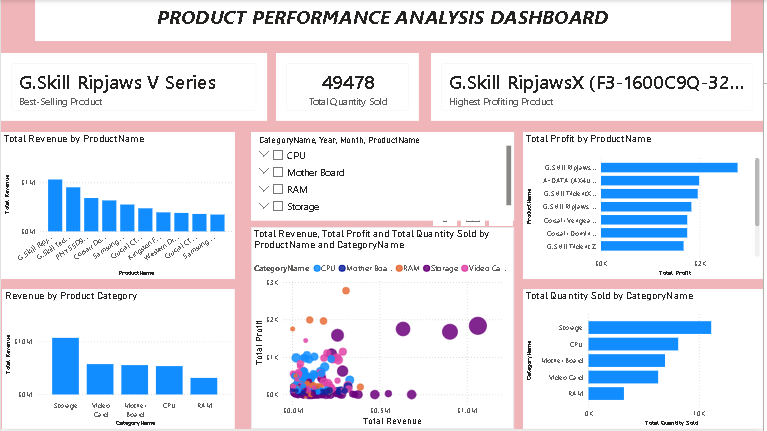

The page's visual inventory and layout, read from the dashboard file:
{"tool":"powerbi","page":{"name":"Product Performance Analysis Dashboard ","canvas":[1280,720],"ordinal":2},"visuals":[{"type":"cardVisual","fields":{"Data":["ML_Dataset_Cleaned.Best-Selling Product"]},"box":[0,89,446.8,114.2],"z":0},{"type":"cardVisual","fields":{"Data":["ML_Dataset_Cleaned.Highest Profiting Product"]},"box":[722.3,89,557.7,114.2],"z":1000},{"type":"cardVisual","fields":{"Data":["Sum(ML_Dataset_Cleaned.TotalItemQuantity)"]},"box":[461.9,89,240.2,114.2],"z":2000},{"type":"columnChart","fields":{"Y":["ML_Dataset_Cleaned.Total Revenue"],"Category":["ML_Dataset_Cleaned.ProductName"]},"box":[0,221.7,393.1,246.9],"z":3000},{"type":"clusteredBarChart","fields":{"Category":["ML_Dataset_Cleaned.ProductName"],"Y":["ML_Dataset_Cleaned.Total Profit"]},"box":[877.3,221.1,402.5,246.6],"z":4000},{"type":"scatterChart","fields":{"X":["ML_Dataset_Cleaned.Total Revenue"],"Y":["ML_Dataset_Cleaned.Total Profit"],"Category":["ML_Dataset_Cleaned.ProductName"],"Size":["ML_Dataset_Cleaned.Total Quantity Sold"],"Series":["ML_Dataset_Cleaned.CategoryName"]},"box":[419.5,381.3,442.2,338.7],"z":5000},{"type":"clusteredColumnChart","title":"Revenue by  Product Category","fields":{"Y":["ML_Dataset_Cleaned.Total Revenue"],"Category":["ML_Dataset_Cleaned.CategoryName"]},"box":[1.7,485.5,391.4,235.2],"z":6000},{"type":"barChart","fields":{"Y":["ML_Dataset_Cleaned.Total Quantity Sold"],"Category":["ML_Dataset_Cleaned.CategoryName"]},"box":[876.9,485.5,403.1,235.2],"z":7000},{"type":"textbox","box":[57.1,0,1169.1,68.9],"z":8000},{"type":"slicer","fields":{"Values":["ML_Dataset_Cleaned.CategoryName","ML_Dataset_Cleaned.OrderDate.Variation.Date Hierarchy.Year","ML_Dataset_Cleaned.OrderDate.Variation.Date Hierarchy.Month","ML_Dataset_Cleaned.ProductName"]},"box":[419.5,221.1,442.2,148.8],"z":9000}]}

Visuals, with their boxes in screenshot pixels (x1, y1, x2, y2), scaled from the page's 1280x720 canvas onto the 767x431 screenshot:
cardVisual - ML_Dataset_Cleaned.Best-Selling Product: <region>0, 53, 268, 122</region>
cardVisual - ML_Dataset_Cleaned.Highest Profiting Product: <region>433, 53, 766, 122</region>
cardVisual - Sum(ML_Dataset_Cleaned.TotalItemQuantity): <region>277, 53, 421, 122</region>
columnChart - ML_Dataset_Cleaned.Total Revenue x ML_Dataset_Cleaned.ProductName: <region>0, 133, 236, 281</region>
clusteredBarChart - ML_Dataset_Cleaned.ProductName x ML_Dataset_Cleaned.Total Profit: <region>526, 132, 766, 280</region>
scatterChart - ML_Dataset_Cleaned.Total Revenue x ML_Dataset_Cleaned.Total Profit: <region>251, 228, 516, 430</region>
"Revenue by  Product Category" clusteredColumnChart: <region>1, 291, 236, 430</region>
barChart - ML_Dataset_Cleaned.Total Quantity Sold x ML_Dataset_Cleaned.CategoryName: <region>525, 291, 766, 430</region>
textbox: <region>34, 0, 735, 41</region>
slicer - ML_Dataset_Cleaned.CategoryName x ML_Dataset_Cleaned.OrderDate.Variation.Date Hierarchy.Year: <region>251, 132, 516, 221</region>
